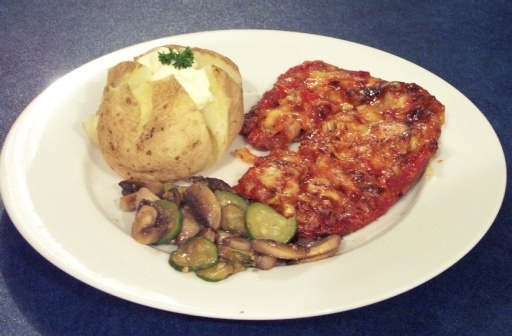background: (65, 23, 357, 148)
